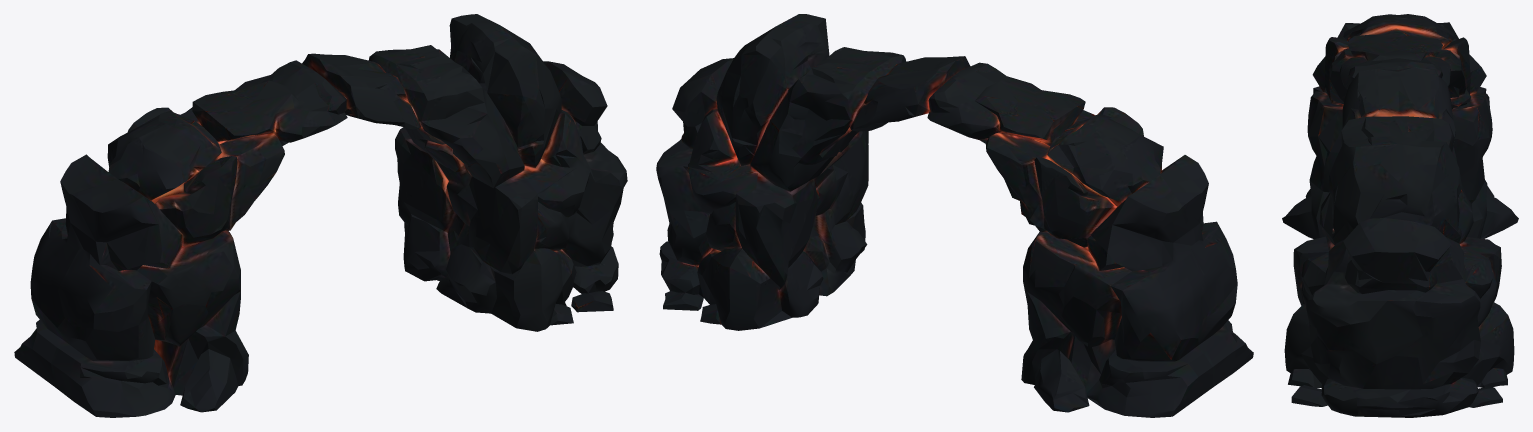
File: obsidian_arch.glb
3 renders of one model, left to right at view 1: azimuth 30°, elevation 25°; view 2: azimuth 150°, elevation 25°; view 3: azimuth 270°, elevation 25°, orthographic. The views are drawn at different scales.
Size of the model in its own units: 1.9 by 0.8612 by 0.7856.
1 material, 1 textured.
